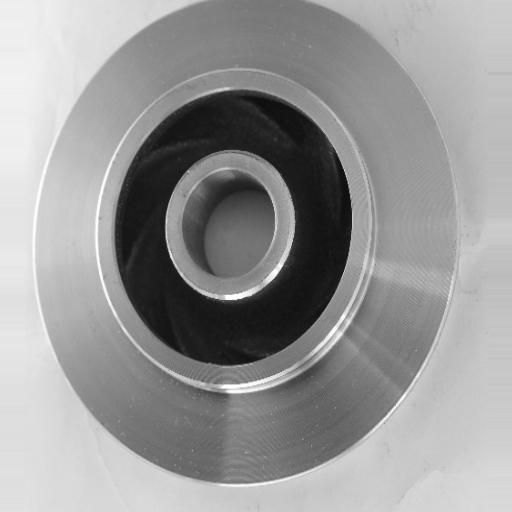polished_casting: (35, 1, 460, 485)
